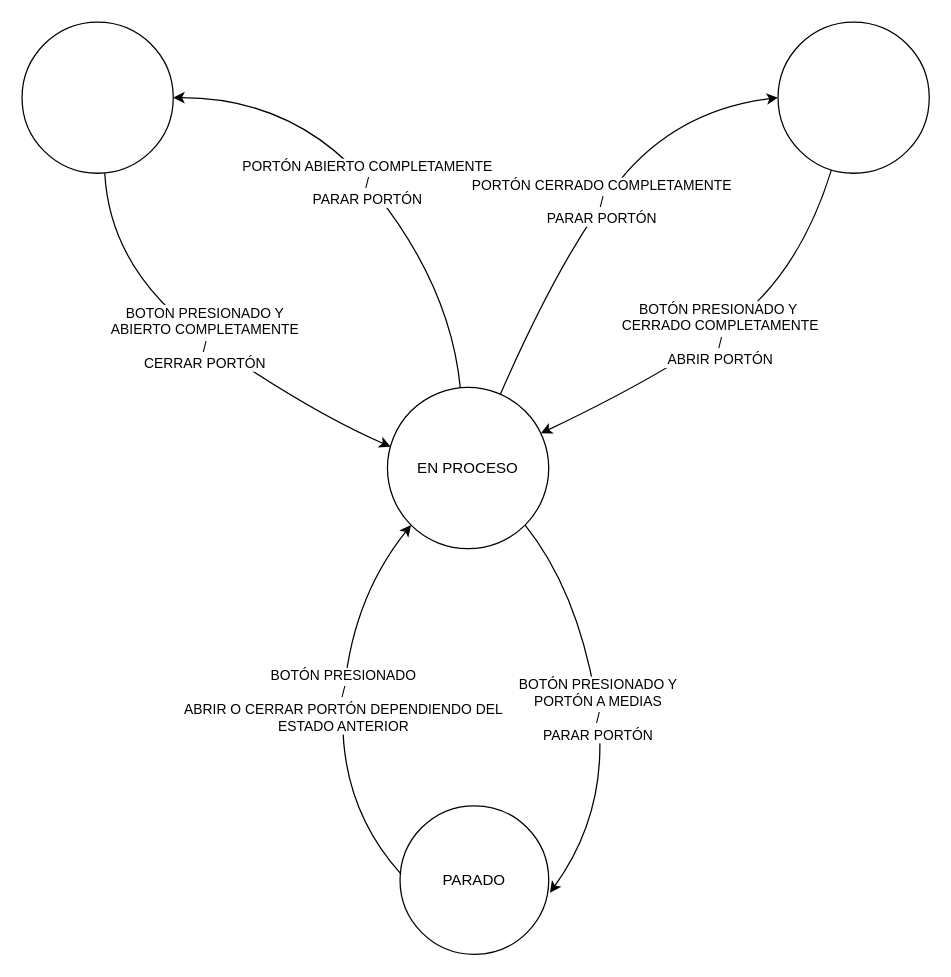
Image size: 951x977. Some labels were removed from this diagram. The centre of each missing label's shape, as x and y in pixels:
ABIERTO: [97,97]
CERRADO: [853,97]
